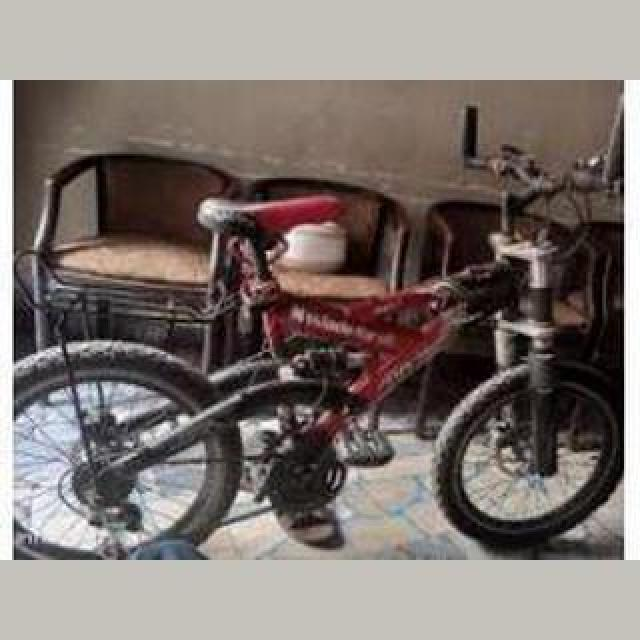Person: (11, 178, 627, 560)
